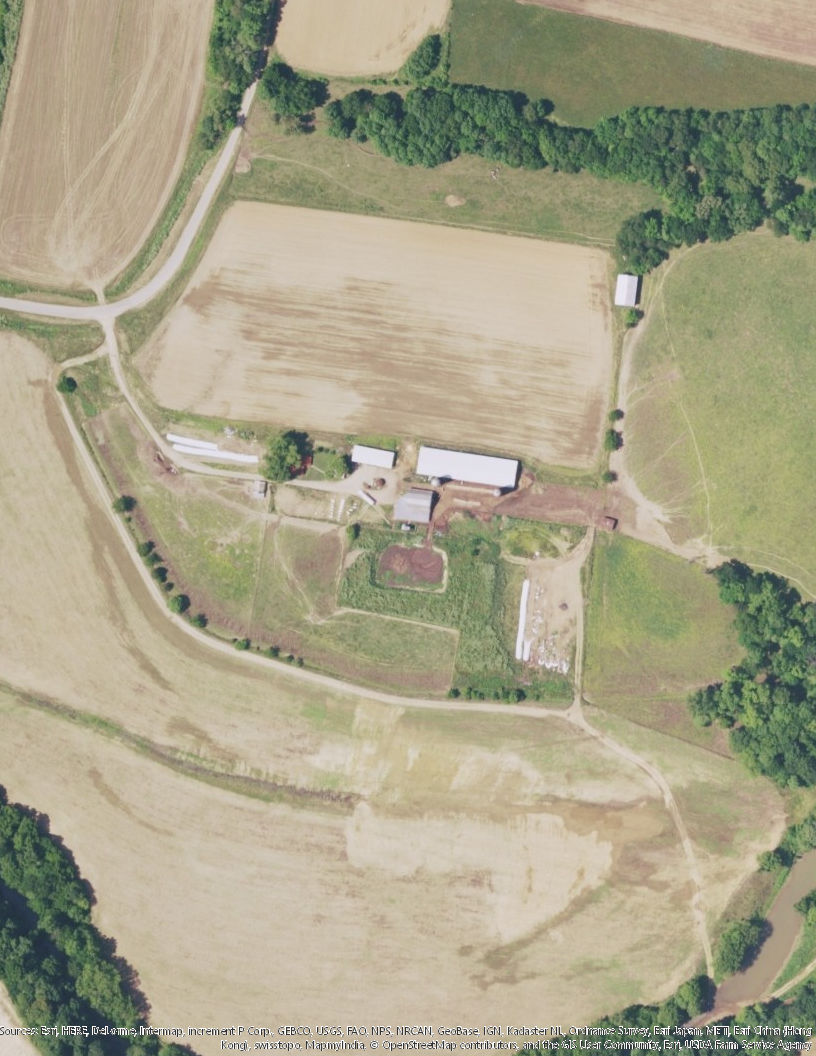cafo: (415, 444, 531, 493), (345, 441, 401, 470)
